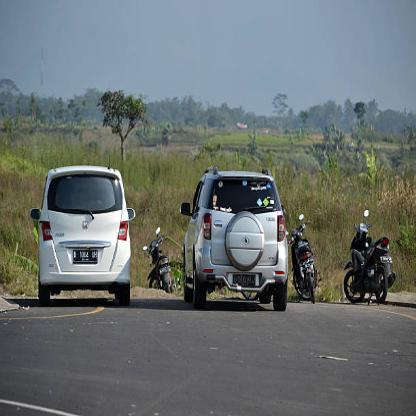Motorcycle: (340, 204, 396, 317), (283, 205, 323, 315), (138, 221, 181, 301)
